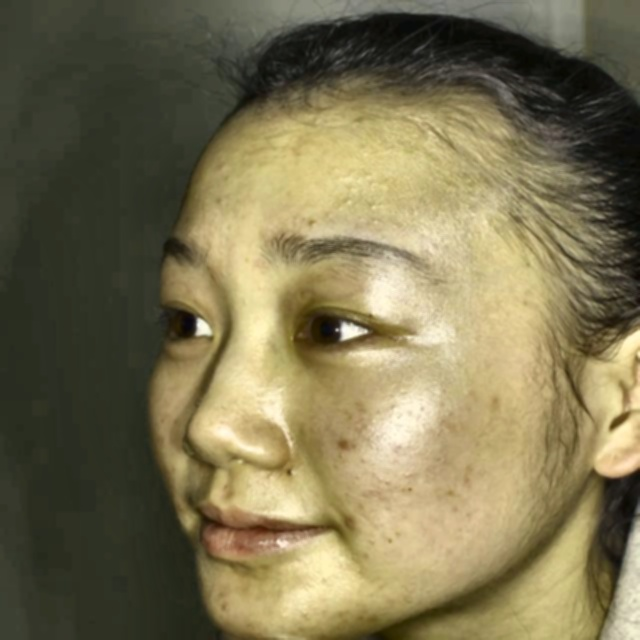comedone: (337, 509, 367, 542), (328, 431, 352, 454)
